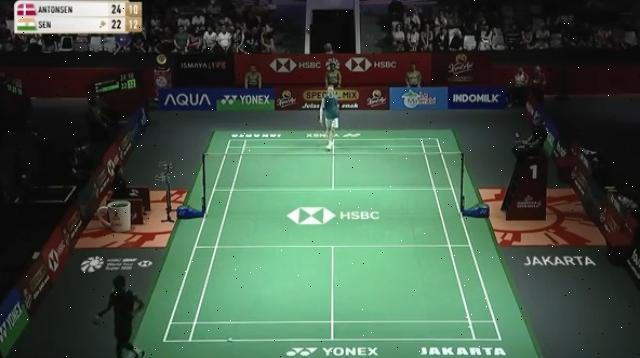Shuttlecock: (225, 332, 237, 348)
